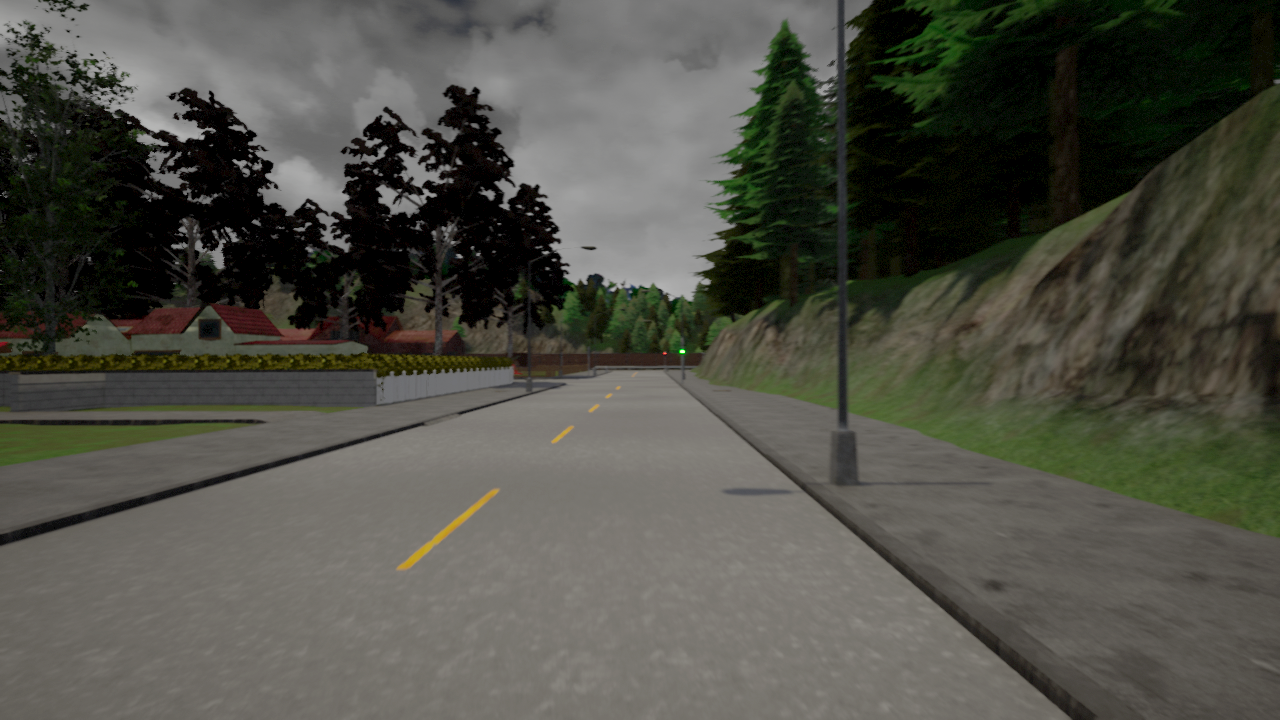green: (679, 342, 685, 355)
